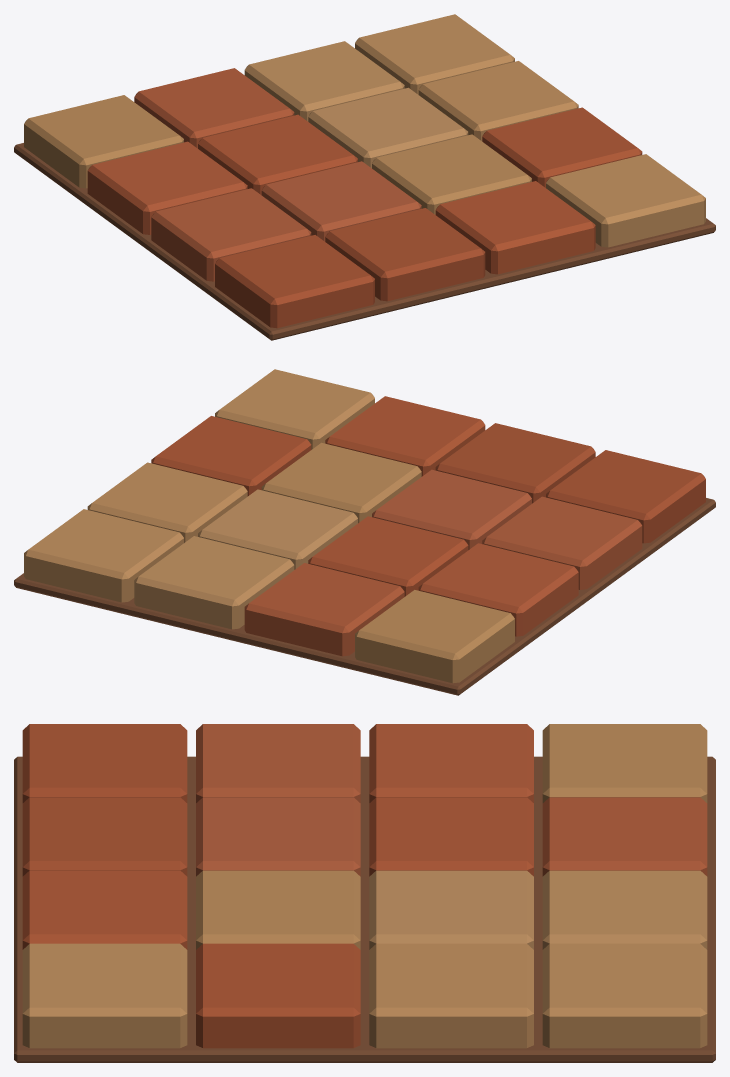
Rendered from SandFloor4.glb.
3 renders of one model, top to bottom at view 1: azimuth 30°, elevation 25°; view 2: azimuth 150°, elevation 25°; view 3: azimuth 270°, elevation 25°, orthographic. The views are drawn at different scales.
Visible parts, largest first — view 1: Body; view 2: Body; view 3: Body.
Boxes of the visible parts, box(x1,y1,x2,y2) form: Body: box(14, 14, 715, 340); Body: box(14, 369, 715, 695); Body: box(14, 724, 715, 1062).
Size of what is drawn, in the model's own units: 4.05 by 0.32 by 4.05.
